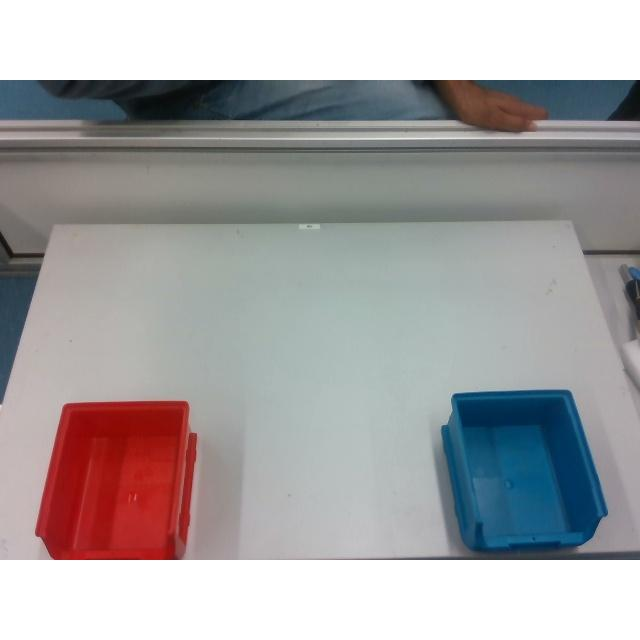container_box_blue: (443, 392, 604, 550)
container_box_red: (35, 401, 195, 559)
